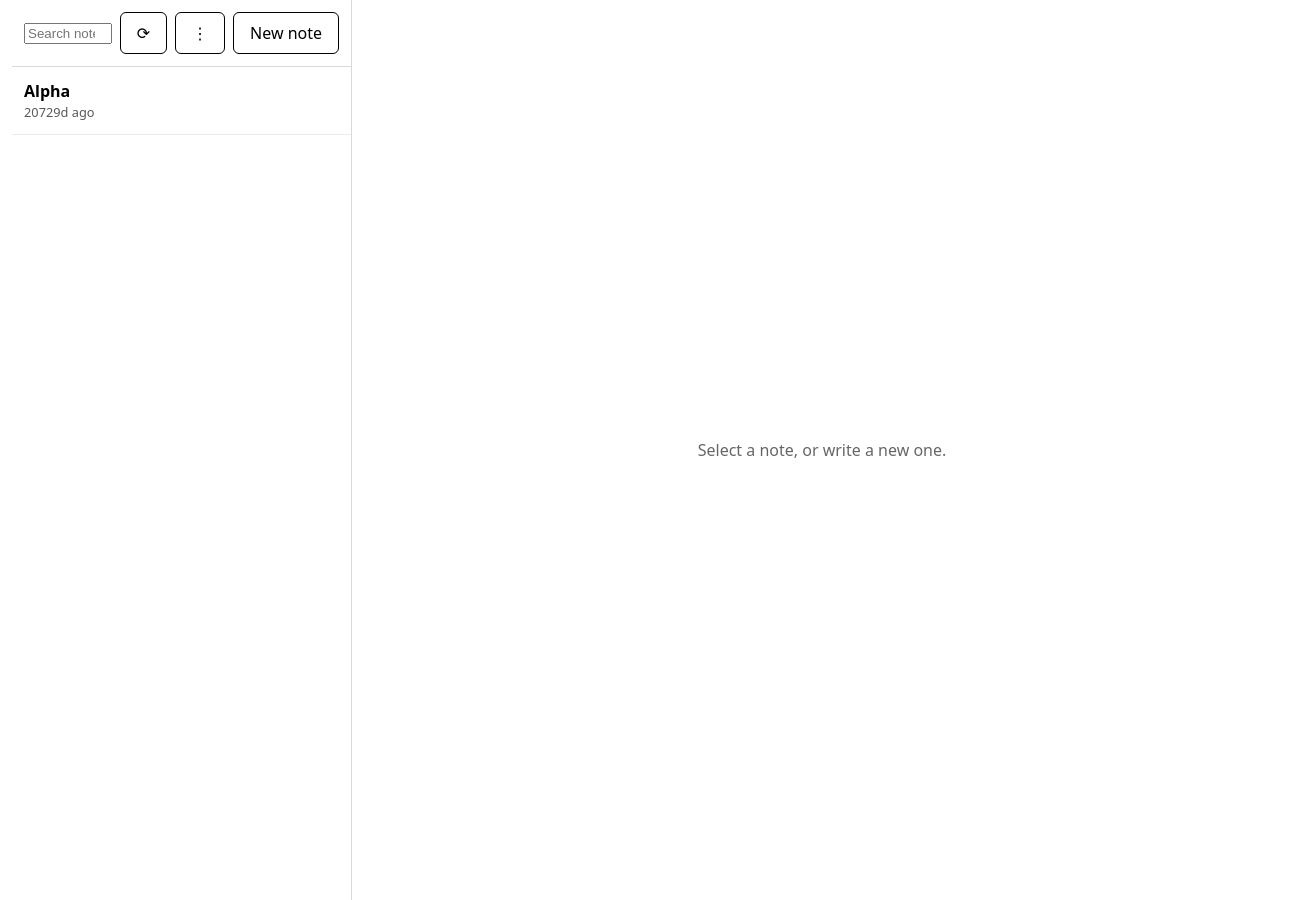
AppShell — re-seed race, title field › never re-seeds over unsaved typing in the Title field
This screenshot has width=1292, height=900.
Click the button "Alpha 20729d ago".
click(47, 91)  # box [12, 67, 351, 135]
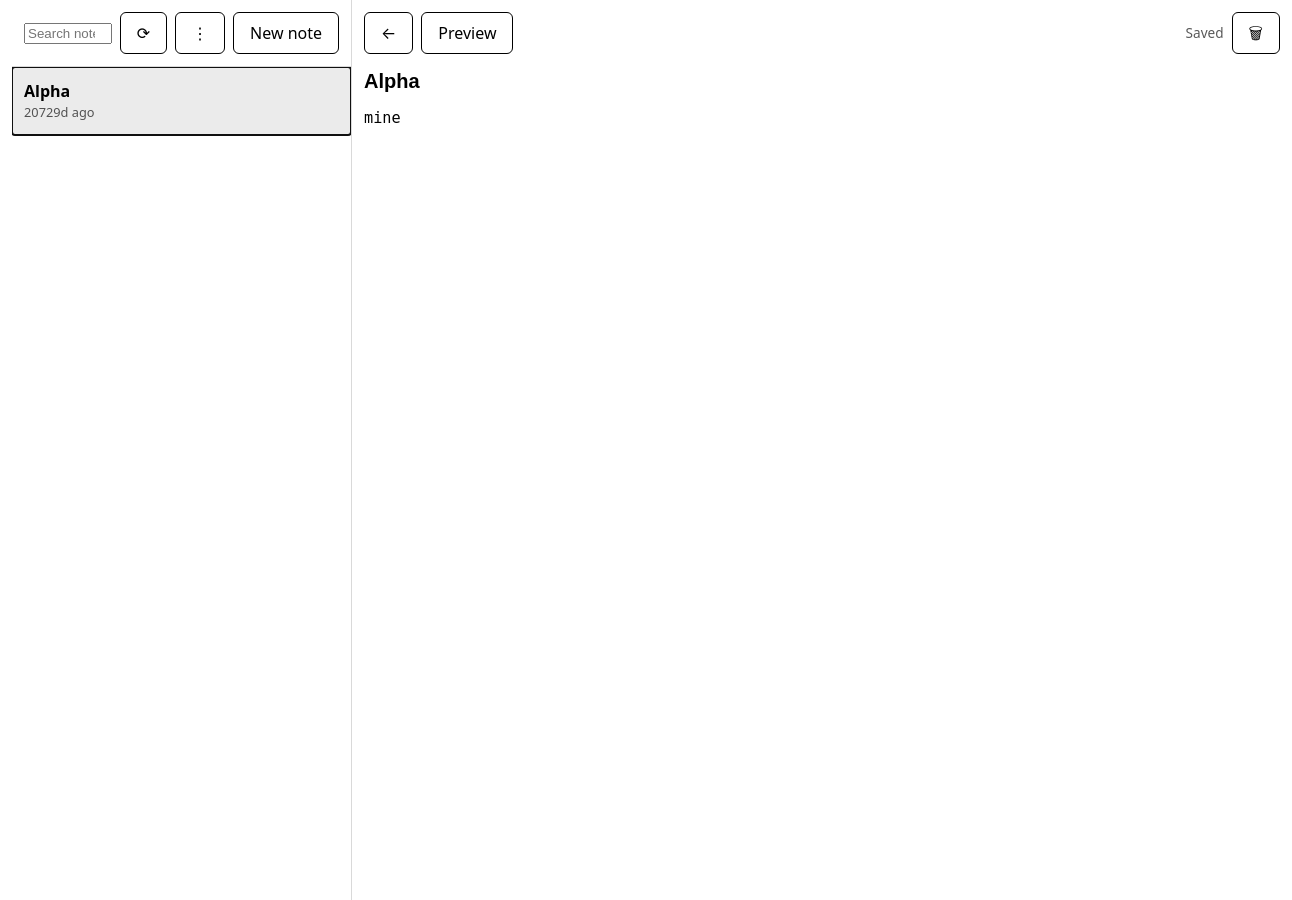
Type " typed" into the field named "Title".
click(822, 82); type(" typed")  # box [364, 66, 1280, 97]
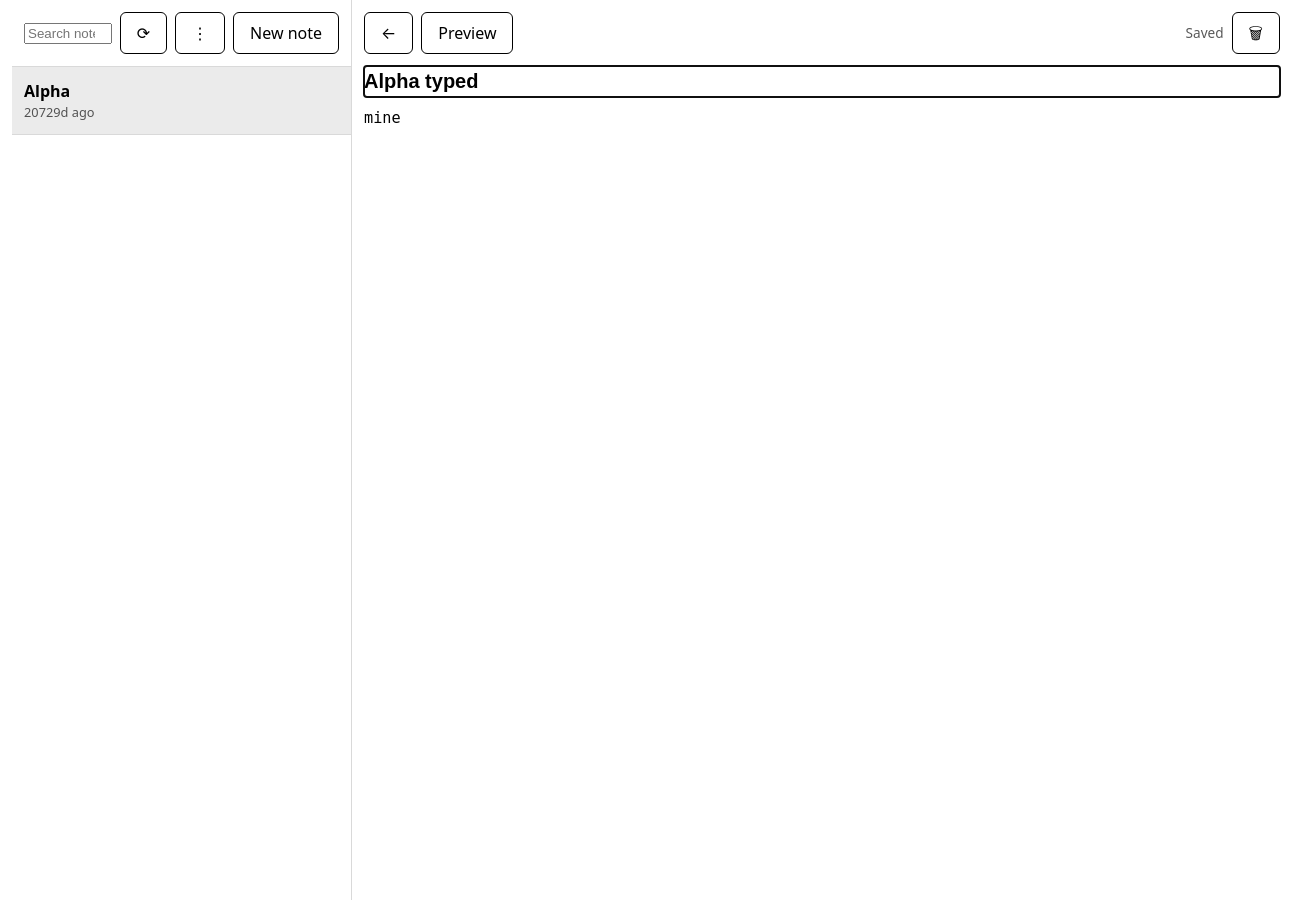
Expected: the text box named "Note body" holds "mine"
Expected: the field named "Title" holds "Alpha typed", [364, 66, 1280, 97]
